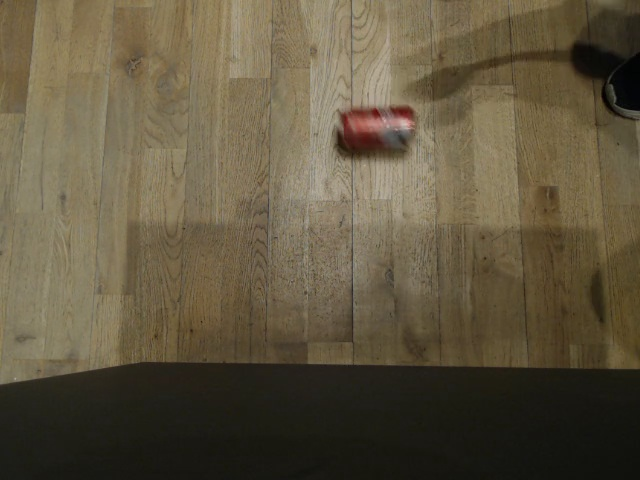cola: (332, 101, 419, 157)
